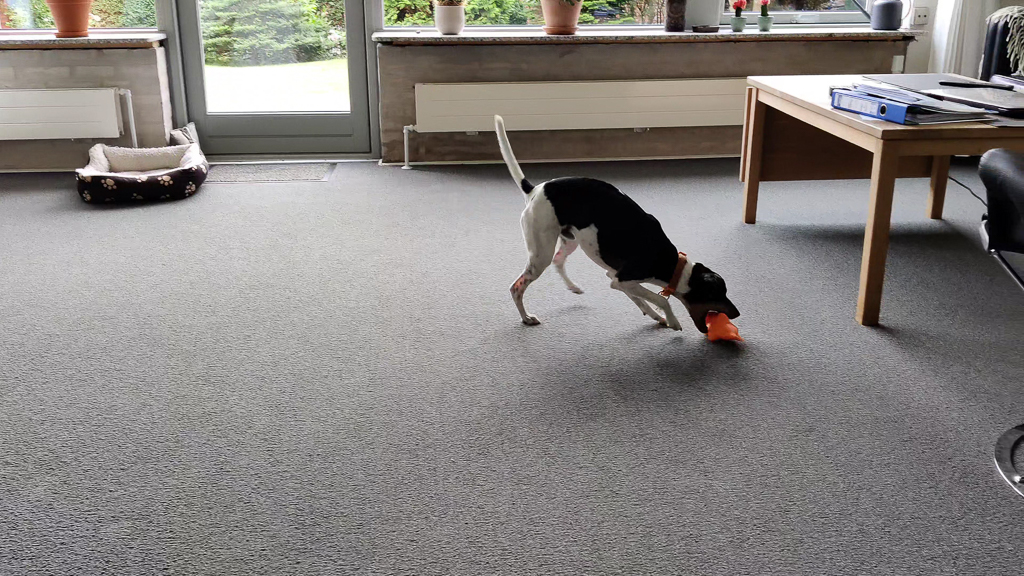Dog: (476, 101, 757, 354)
Eagle: (322, 25, 347, 59)
